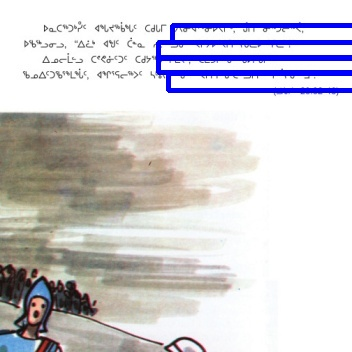inuktitut: (19, 65, 318, 82), (41, 17, 304, 34), (20, 35, 296, 50), (41, 51, 276, 65)
